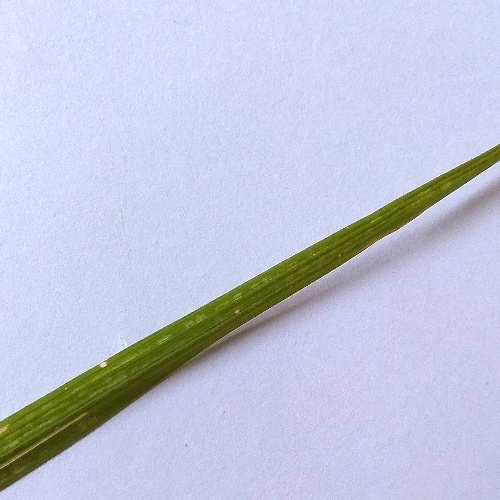Busuk Leher: (2, 448, 33, 476), (90, 353, 112, 376), (232, 303, 248, 319), (1, 416, 12, 435)
